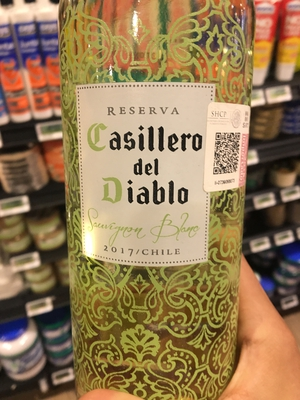casillero del diablo sauvignon blanc: (57, 6, 260, 400)
